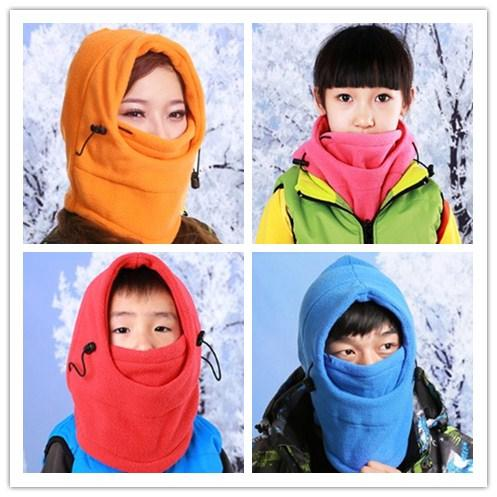OK: (329, 317, 407, 409)
WRONG: (114, 75, 194, 184), (104, 299, 183, 394), (329, 82, 403, 159)
